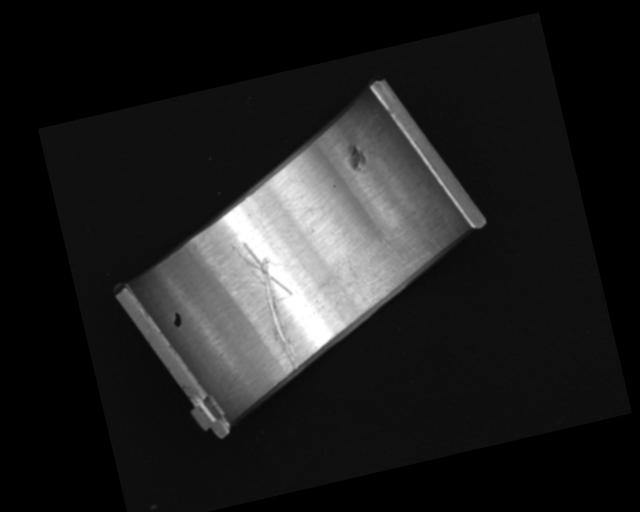blot: (169, 309, 184, 329)
bruise: (344, 140, 369, 173)
nick: (232, 233, 312, 379)
scratch: (327, 220, 451, 315)
